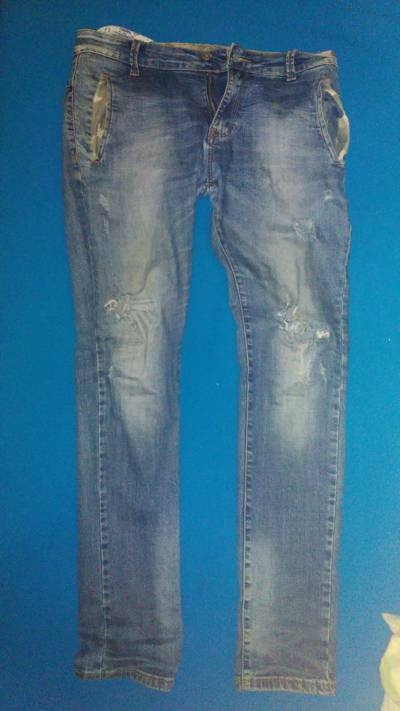Pants: (33, 19, 373, 692)
